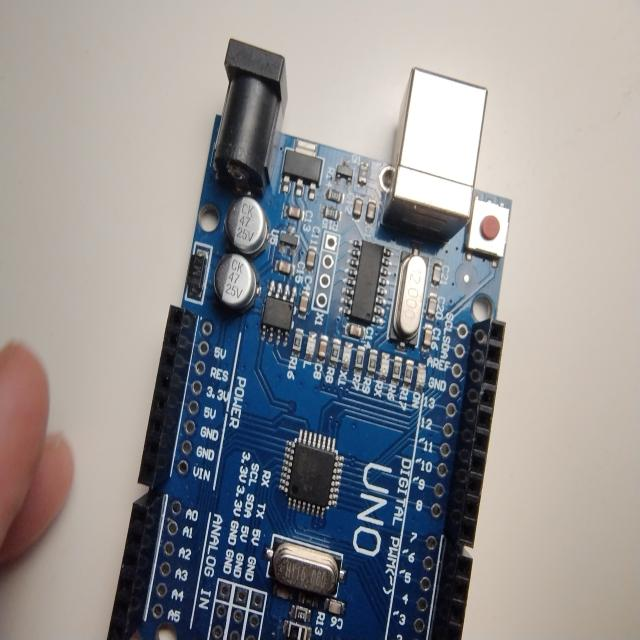arduino: (96, 35, 518, 640)
